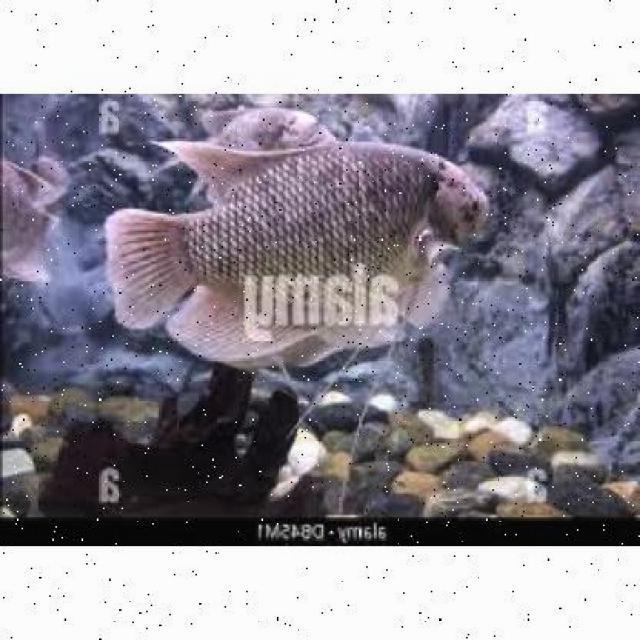gurame: (132, 138, 492, 354)
